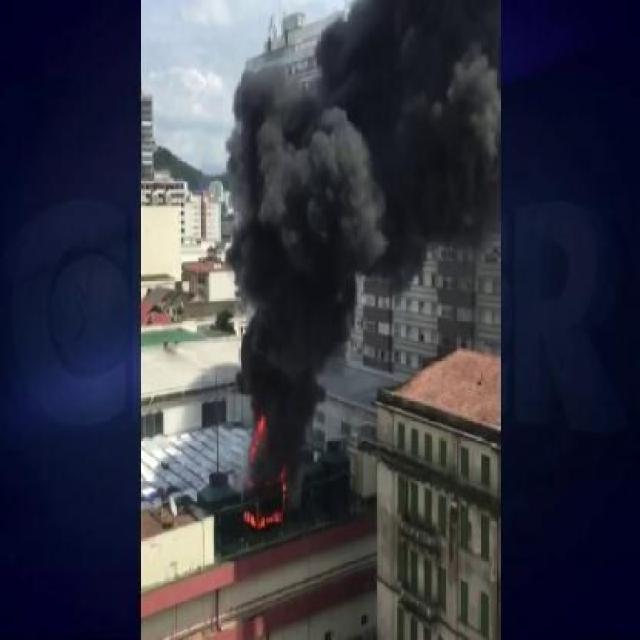Fire: (242, 409, 267, 462), (244, 502, 284, 528), (278, 469, 288, 500)
